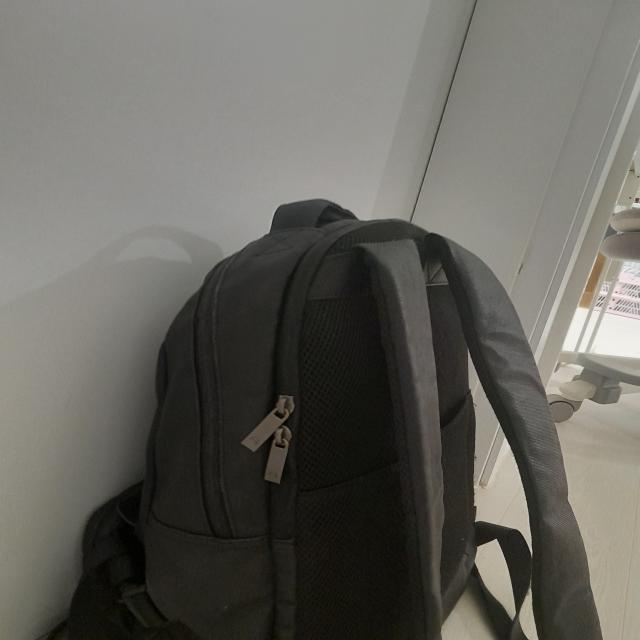backpack: (82, 196, 604, 640)
